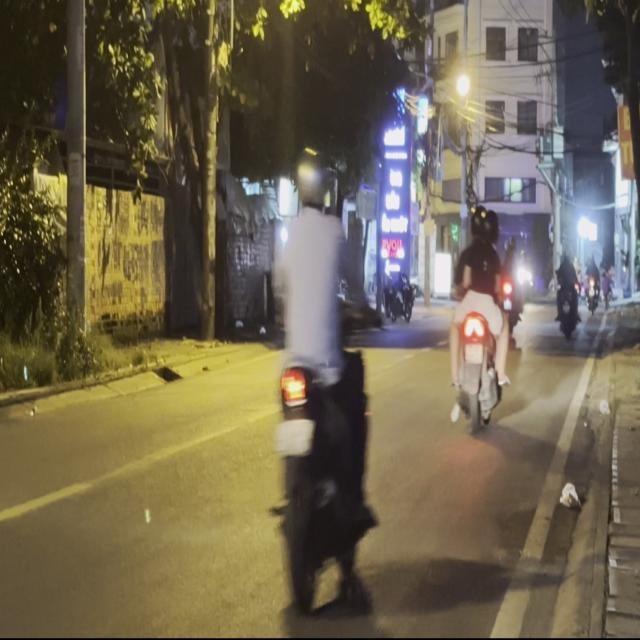helmet: (293, 149, 328, 212), (468, 203, 488, 242), (482, 207, 499, 246)
licenseplate: (266, 147, 380, 615), (445, 200, 509, 433)
nohelmet: (274, 418, 314, 457), (466, 343, 482, 363)
